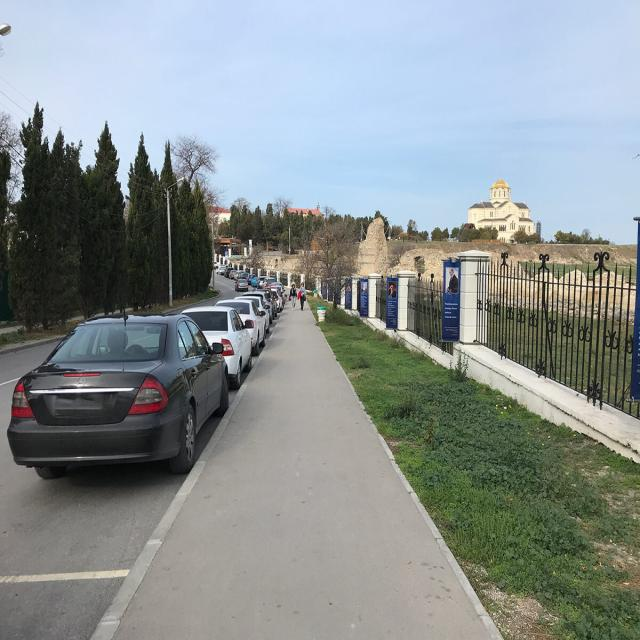car: (7, 311, 229, 479), (179, 306, 252, 390), (214, 299, 265, 356), (244, 292, 275, 326), (234, 280, 249, 292), (247, 274, 256, 285), (225, 268, 233, 280), (252, 277, 259, 286)
